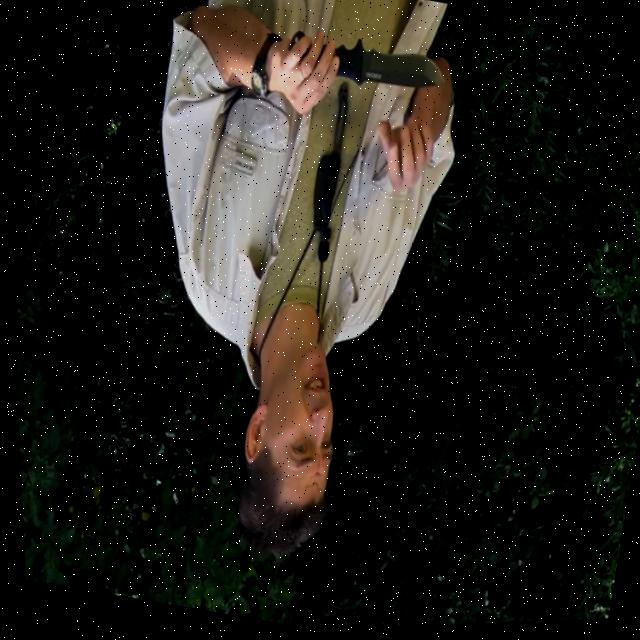knife: (327, 32, 451, 107)
